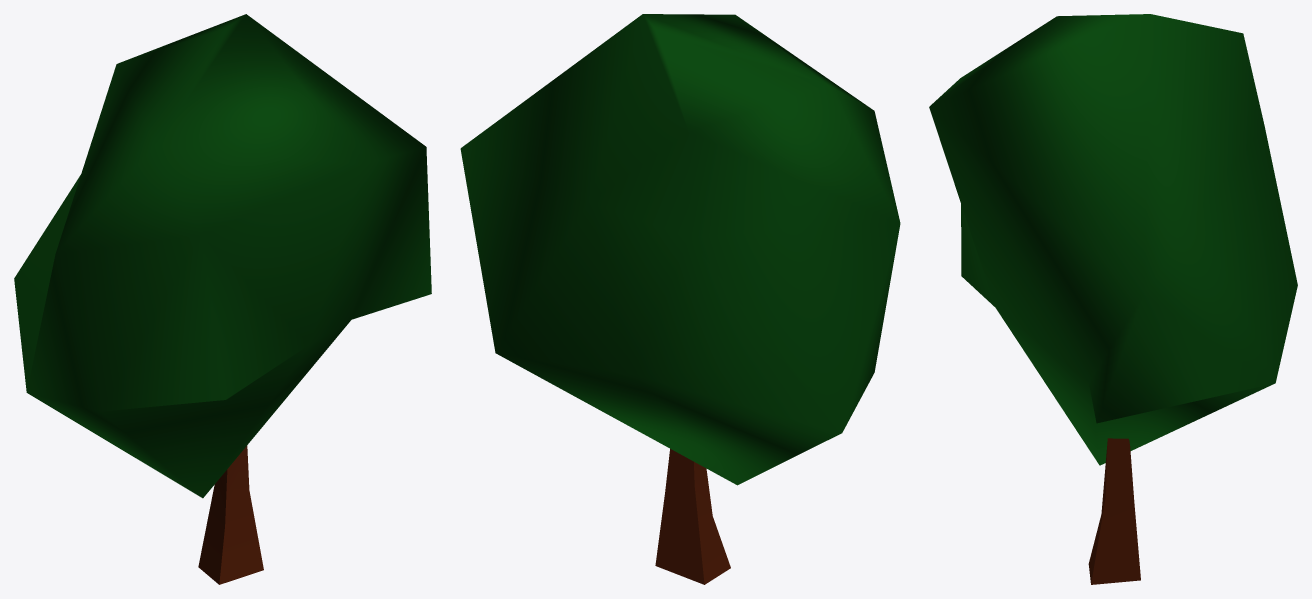
The model's file is LPTree.FBX.
3 views of the same model, side by side, from view 1: azimuth 30°, elevation 25°; view 2: azimuth 150°, elevation 25°; view 3: azimuth 270°, elevation 25° (orthographic). The views are drawn at different scales.
Visible parts, largest first — view 1: Box001; view 2: Box001; view 3: Box001.
Boxes of the visible parts, box(x1,y1,x2,y2) form: Box001: box(14, 14, 431, 584); Box001: box(460, 14, 900, 584); Box001: box(929, 14, 1297, 584).
Bounding box in the file's own units: 74.5 × 96.55 × 55.72.
